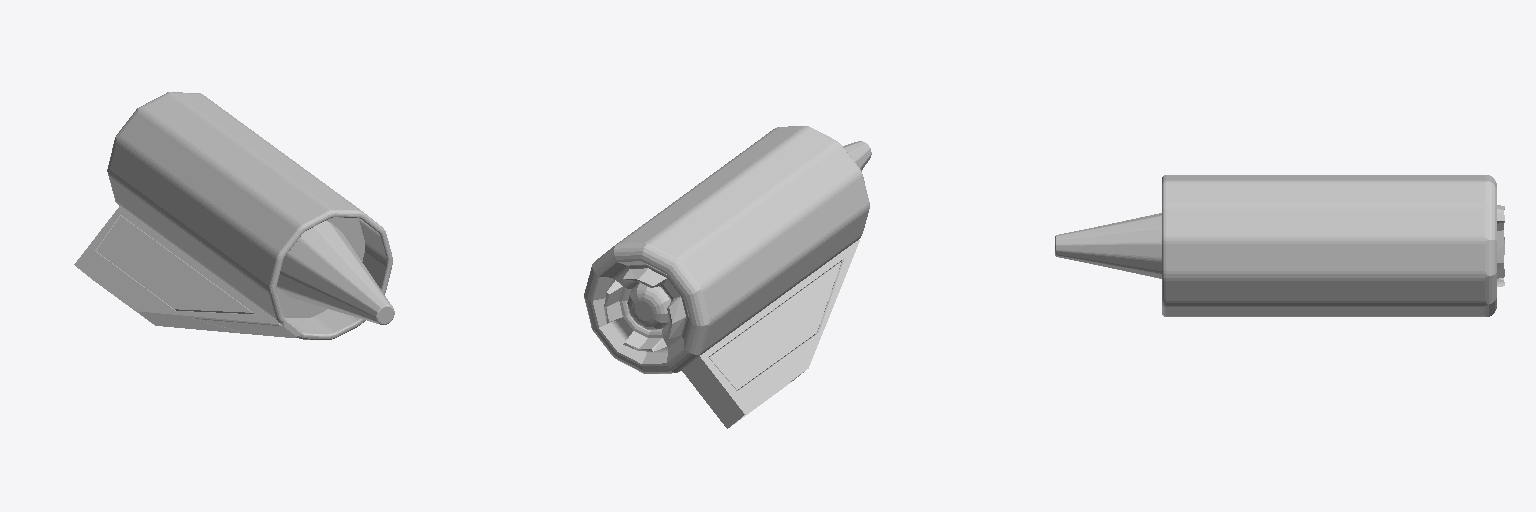
Rendered from engineleft.obj.
The picture shows the model from 3 angles: view 1: azimuth 30°, elevation 25°; view 2: azimuth 150°, elevation 25°; view 3: azimuth 270°, elevation 25°; orthographic projection.
Visible parts, largest first — view 1: Small_Space_Fighter_Cube_Small_Space_Fighter.005; view 2: Small_Space_Fighter_Cube_Small_Space_Fighter.005; view 3: Small_Space_Fighter_Cube_Small_Space_Fighter.005.
Boxes of the visible parts, <box> form: Small_Space_Fighter_Cube_Small_Space_Fighter.005: <box>74,92,394,339</box>; Small_Space_Fighter_Cube_Small_Space_Fighter.005: <box>584,126,871,428</box>; Small_Space_Fighter_Cube_Small_Space_Fighter.005: <box>1055,175,1504,316</box>.
Bounding box in the file's own units: 0.3837 × 0.3837 × 0.938.